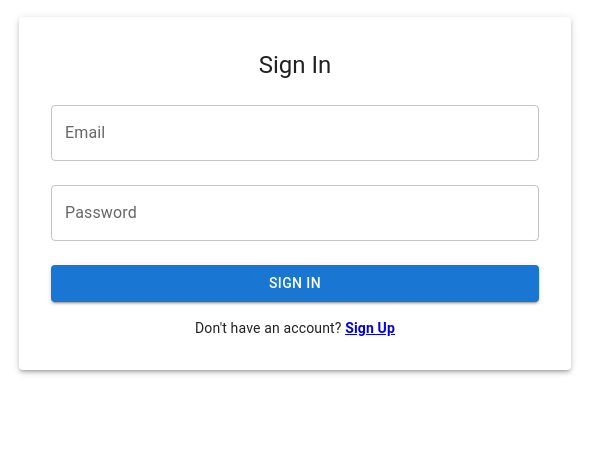
Test: LoginPage › shows API error message on failed login
The image size is (591, 456).
In the field labelled "Email": (295, 133) left=51, top=105, right=539, bottom=161, type "bad@test.com"
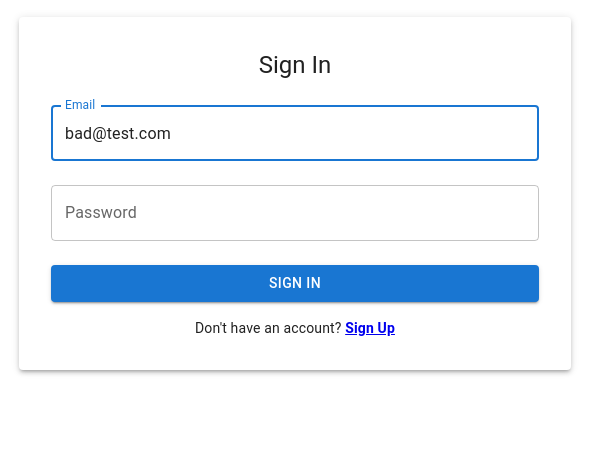
In the password field labelled "Password": (295, 213) left=51, top=185, right=539, bottom=241, type "wrongpass"
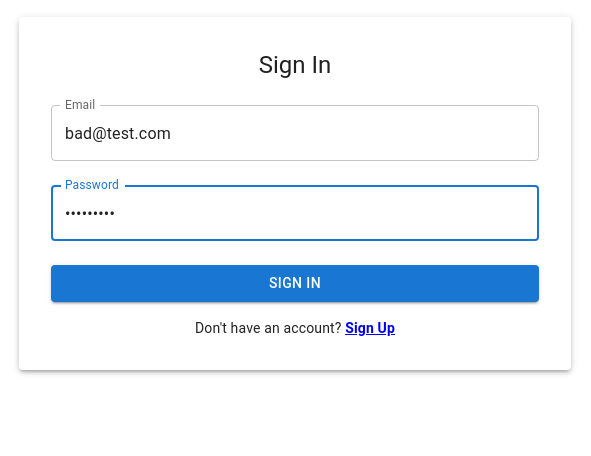
Click the button with test id "submit-button": (295, 284) left=51, top=265, right=539, bottom=302
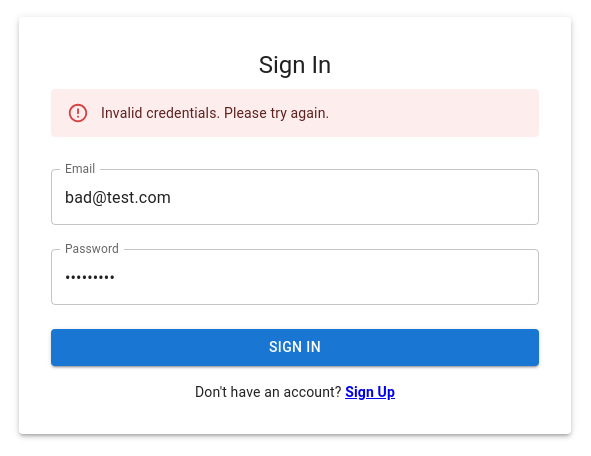
Expected: the text "Invalid credentials. Please try again." is shown, left=101, top=105, right=329, bottom=121
